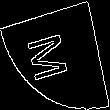M_E: (30, 26, 80, 84)
